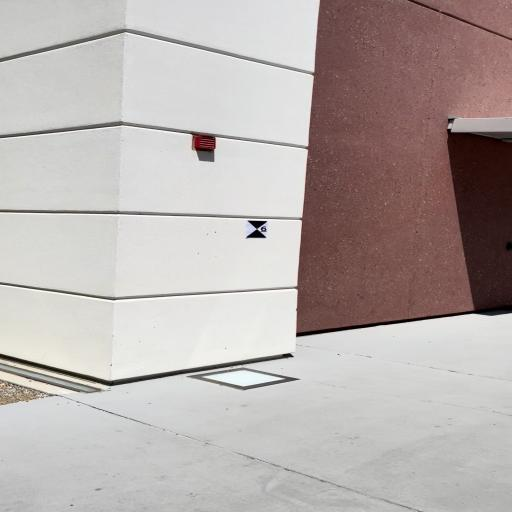target6: (244, 219, 268, 239)
